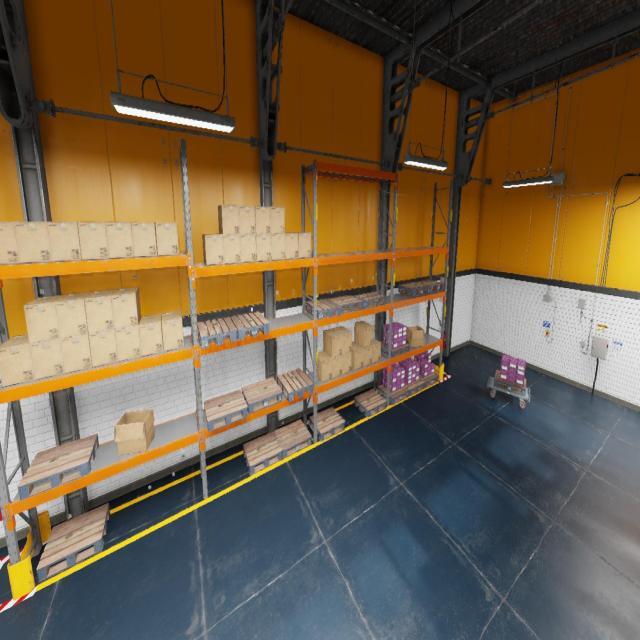box: (24, 295, 66, 343), (0, 334, 35, 387), (114, 409, 154, 455), (55, 292, 92, 338), (14, 222, 52, 263), (30, 338, 64, 380), (84, 289, 116, 333), (47, 222, 82, 261), (111, 287, 141, 329), (60, 334, 92, 373), (77, 222, 109, 260), (89, 329, 118, 367), (105, 222, 134, 258), (115, 322, 141, 362), (139, 314, 163, 356), (161, 310, 184, 352), (131, 222, 157, 257), (0, 222, 20, 264), (155, 222, 179, 255), (202, 233, 224, 265), (218, 205, 240, 234), (323, 328, 342, 358), (223, 234, 241, 264), (238, 205, 256, 234), (334, 326, 352, 354), (354, 321, 373, 347), (317, 351, 332, 382), (240, 234, 256, 262), (354, 342, 372, 366), (255, 206, 271, 233), (256, 233, 271, 261), (295, 232, 311, 258), (270, 206, 285, 233), (406, 326, 424, 347), (271, 233, 285, 260), (352, 341, 364, 370), (328, 354, 342, 378), (286, 232, 298, 259), (342, 352, 352, 375), (372, 338, 381, 363)
pallets: (36, 502, 110, 582), (18, 433, 98, 500), (204, 389, 248, 432), (243, 432, 282, 476), (242, 377, 282, 414), (274, 419, 311, 459), (309, 406, 345, 442), (197, 317, 237, 348), (277, 368, 313, 402), (230, 312, 270, 340), (354, 389, 387, 417), (494, 370, 526, 396), (306, 298, 341, 319), (328, 295, 363, 314), (378, 384, 409, 404), (355, 292, 386, 308), (380, 341, 410, 356), (398, 282, 430, 296), (405, 378, 425, 396), (415, 280, 444, 292), (419, 372, 439, 388)
